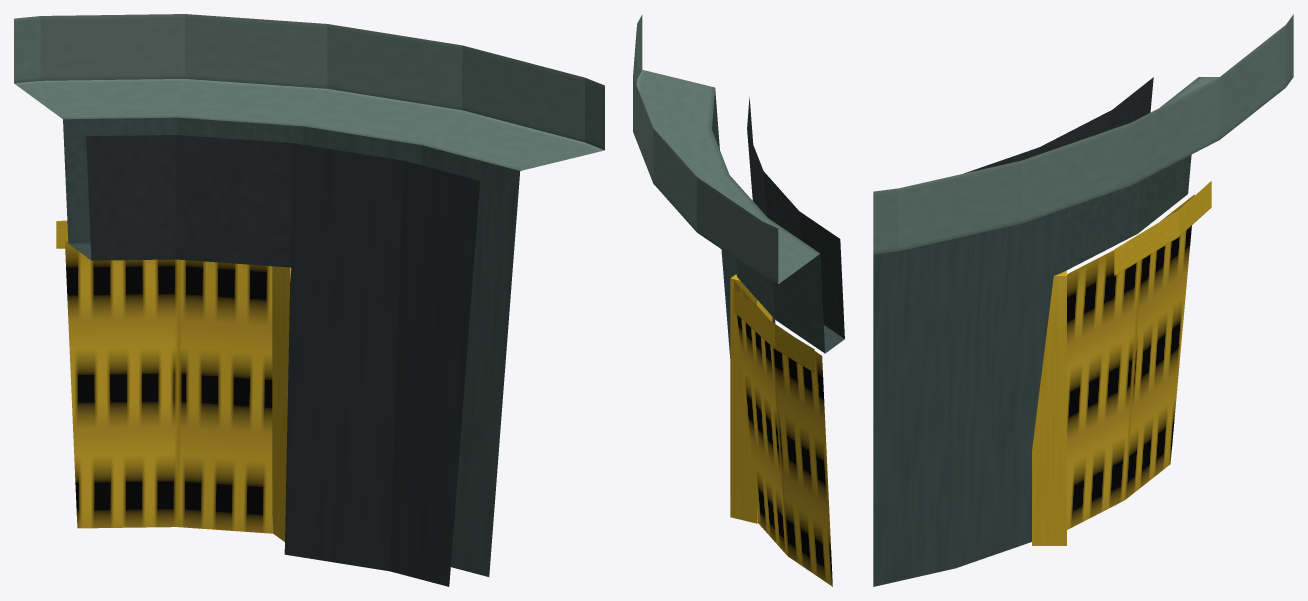
Rendered from cell_133.obj.
3 views of the same model, side by side, from view 1: azimuth 30°, elevation 25°; view 2: azimuth 150°, elevation 25°; view 3: azimuth 270°, elevation 25° (orthographic). The views are drawn at different scales.
Bounding box in the file's own units: 0.8459 × 1 × 0.8459.
